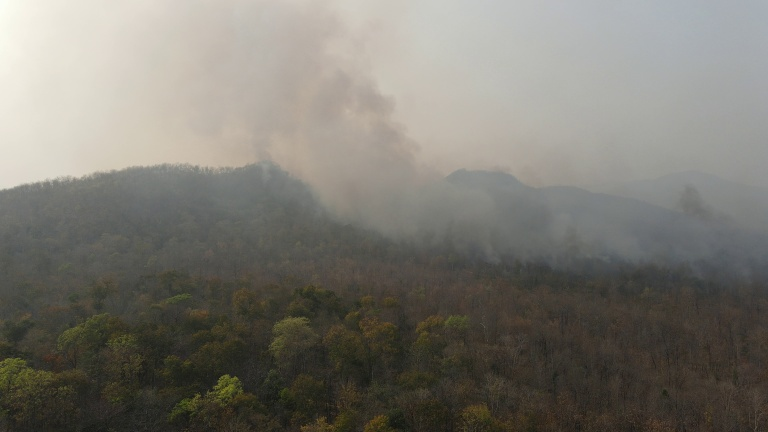smoke: (181, 6, 588, 257), (635, 175, 768, 284), (249, 120, 278, 185)
